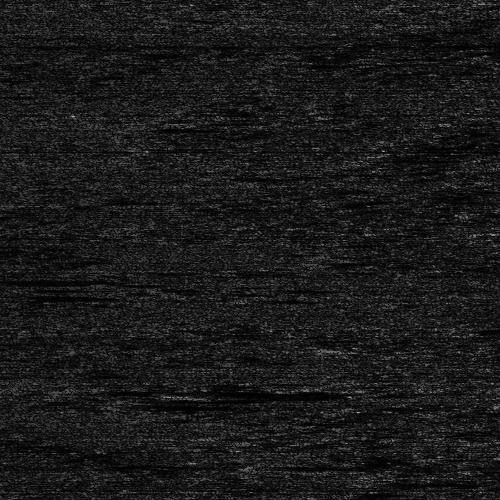object: (442, 446, 500, 461), (103, 399, 166, 408), (169, 391, 242, 398), (0, 275, 14, 284), (0, 293, 14, 300)
shadow: (0, 275, 133, 284), (206, 391, 331, 398), (135, 399, 206, 408), (0, 293, 38, 300)
